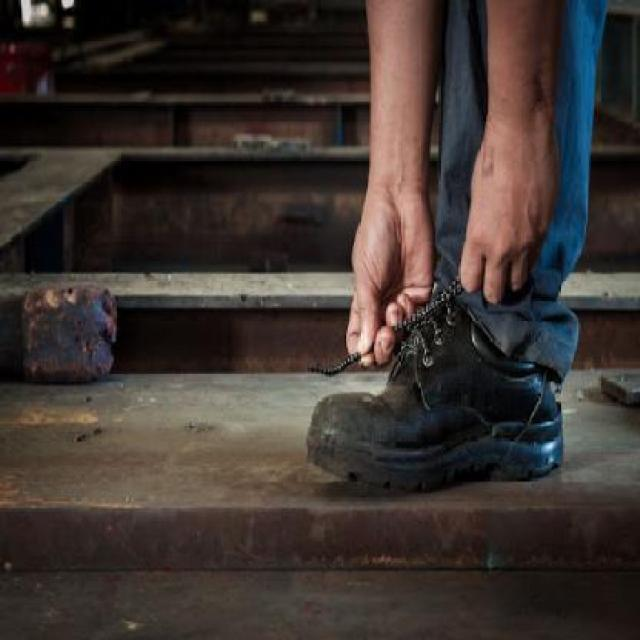No_Glove: (338, 187, 435, 373)
